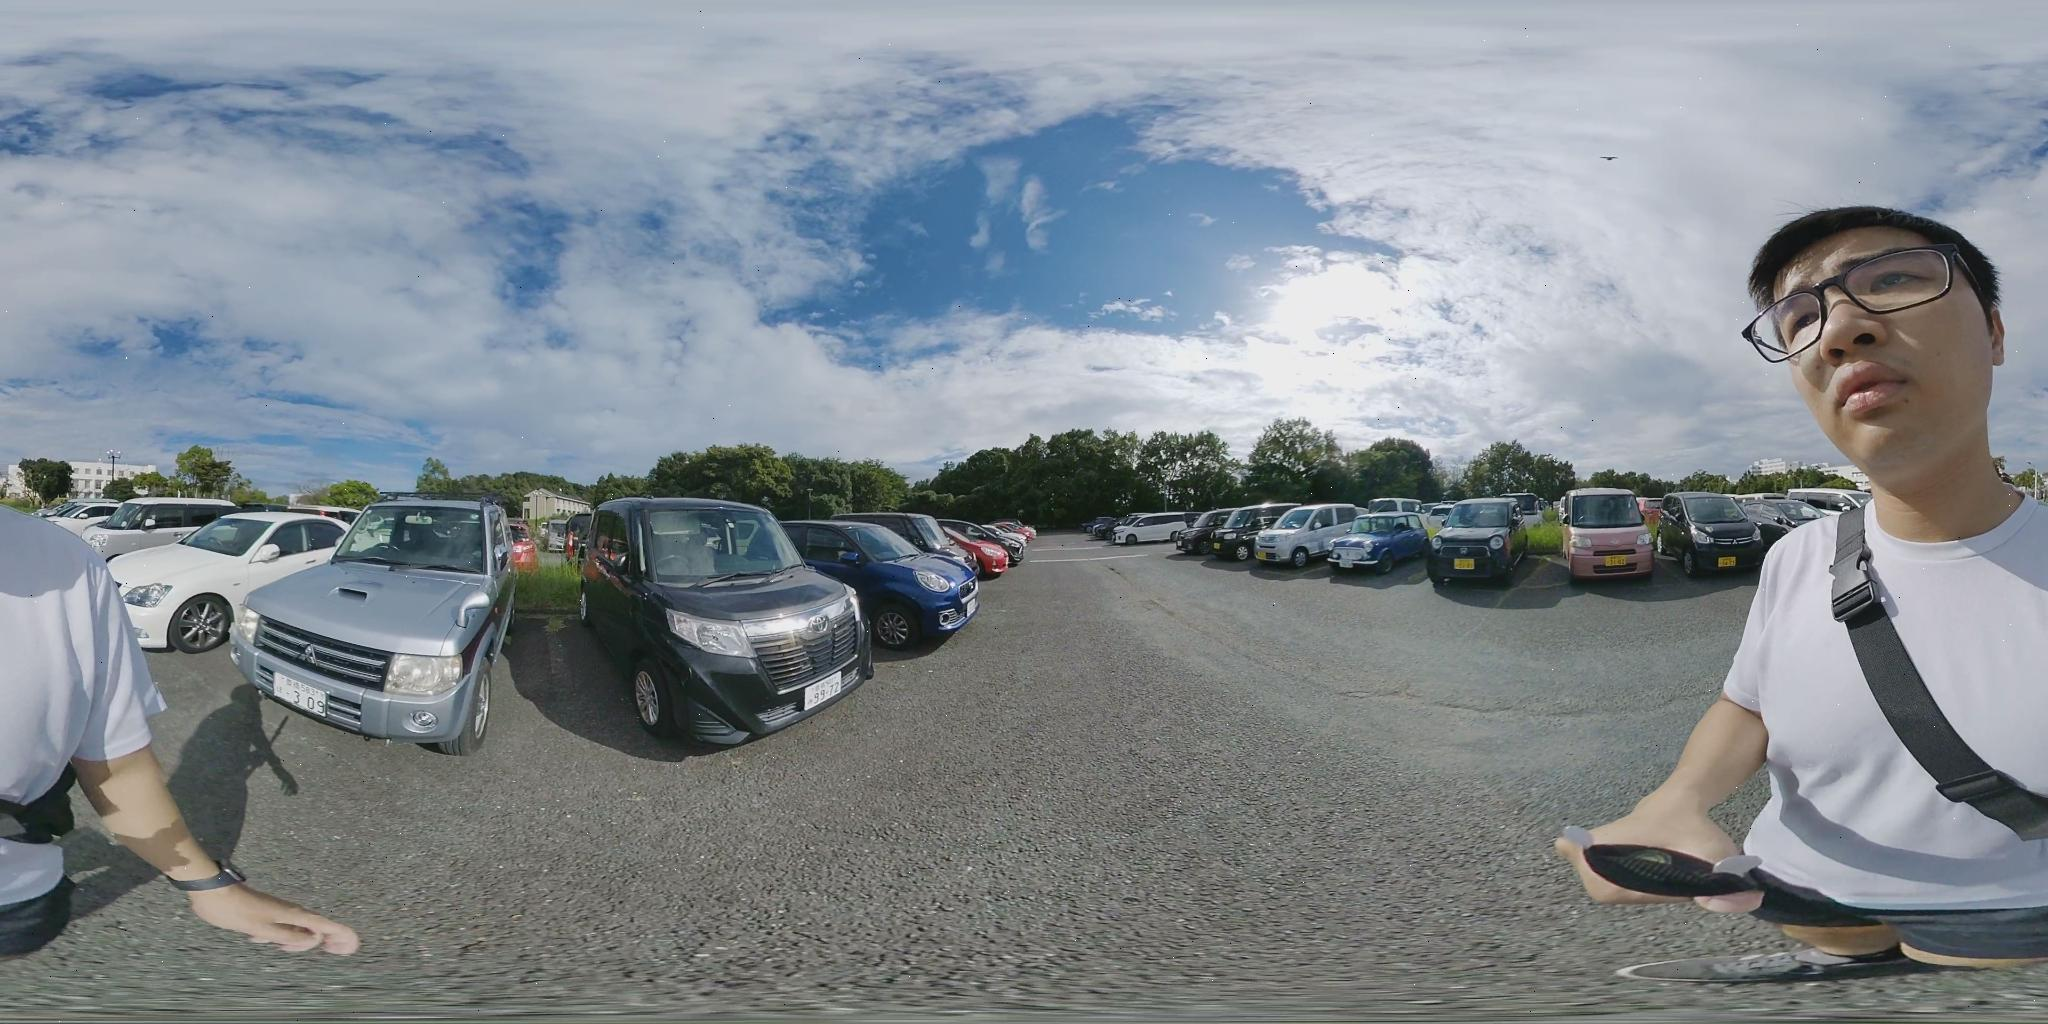car: (588, 498, 870, 741), (252, 498, 519, 733), (110, 509, 357, 656), (785, 519, 982, 652), (1664, 492, 1818, 573), (56, 498, 242, 559), (829, 515, 989, 584), (1326, 507, 1445, 573), (1236, 503, 1366, 563), (1563, 490, 1647, 579), (1434, 495, 1518, 579), (1176, 508, 1284, 558), (1097, 516, 1187, 543)
